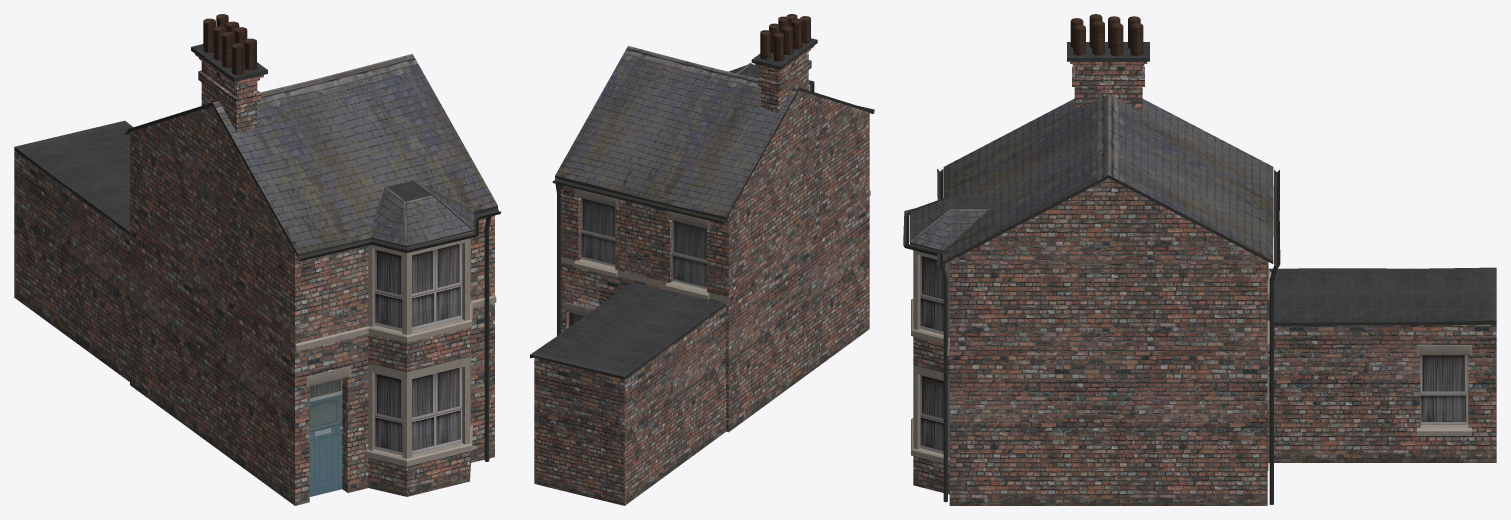
The model's file is ukterracedvictorian11bm.FBX.
3 views of the same model, side by side, from view 1: azimuth 30°, elevation 25°; view 2: azimuth 150°, elevation 25°; view 3: azimuth 270°, elevation 25° (orthographic). The views are drawn at different scales.
Visible parts, largest first — view 1: Object003; view 2: Object003; view 3: Object003.
Boxes of the visible parts, x1=… form: Object003: x1=14, y1=14, x2=501, y2=505; Object003: x1=530, y1=14, x2=874, y2=505; Object003: x1=903, y1=14, x2=1496, y2=505.
Size of the model in its own units: 561 by 1108 by 1493.
